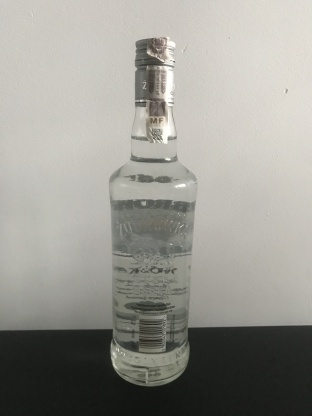nakretka: (133, 34, 177, 107)
